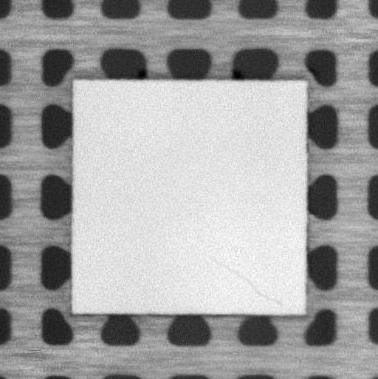DIE_CRACK: (209, 257, 283, 308)
